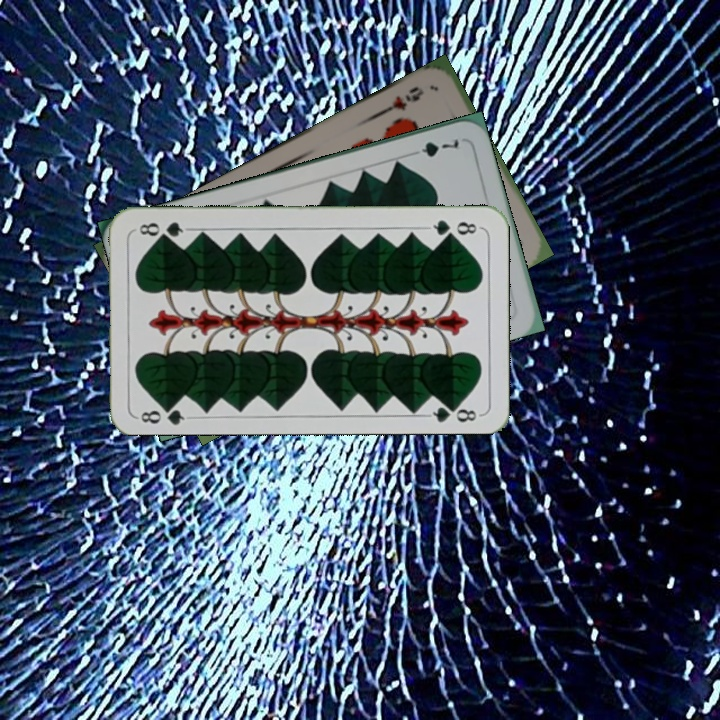G7: (406, 135, 462, 160)
G8: (134, 399, 193, 426), (423, 215, 482, 239)
H9: (379, 82, 427, 116)
